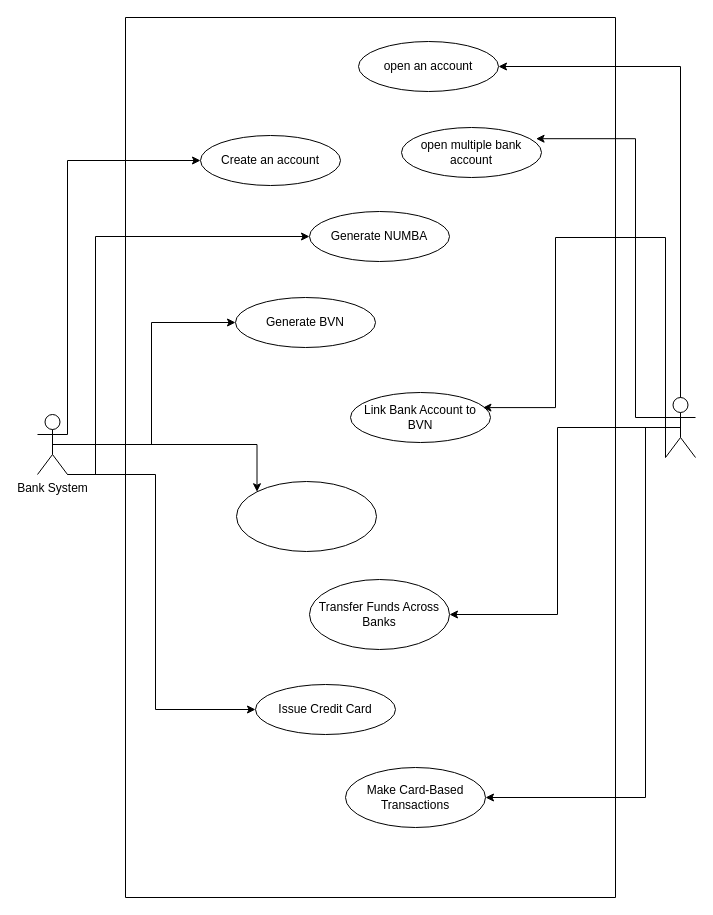
Some shapes in this 713 by 915 pixel diagram are drawn without their labels. Each missing label, with the centre of its shape:
Manage Multiple Bank Accounts: [306,516]
User: [680,427]
